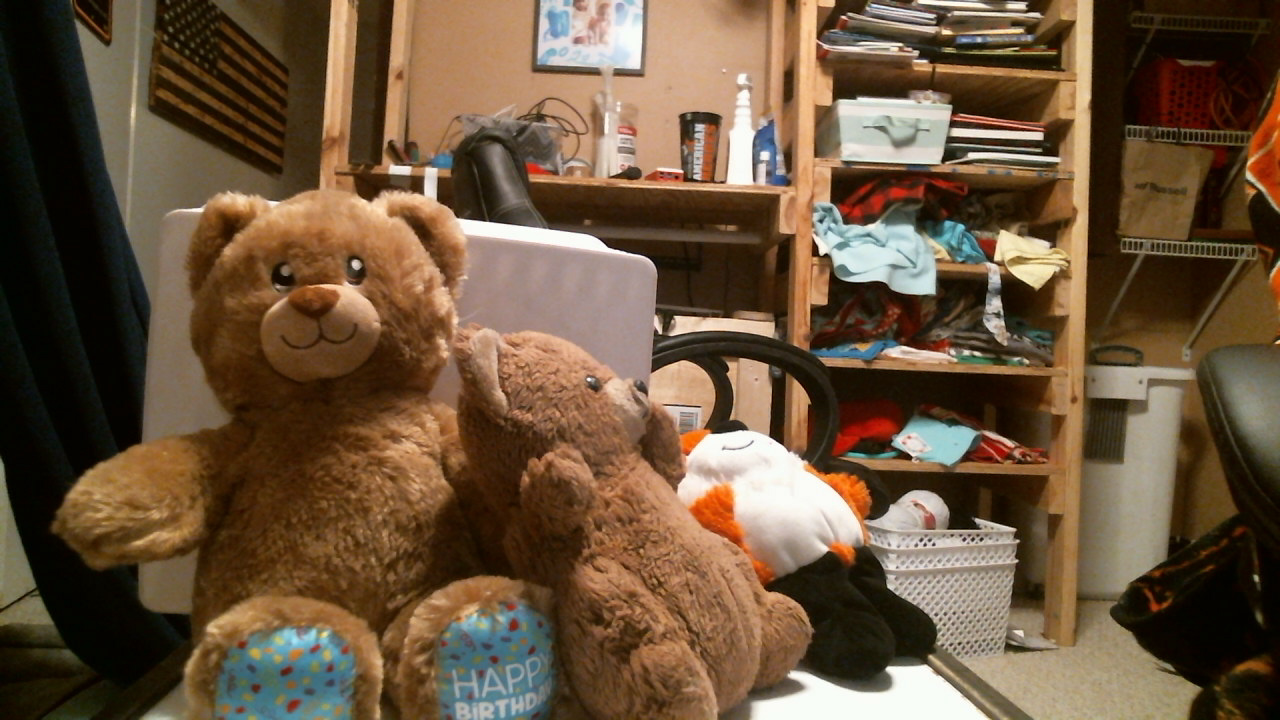Little_Mister_Bear: (552, 377, 653, 443)
